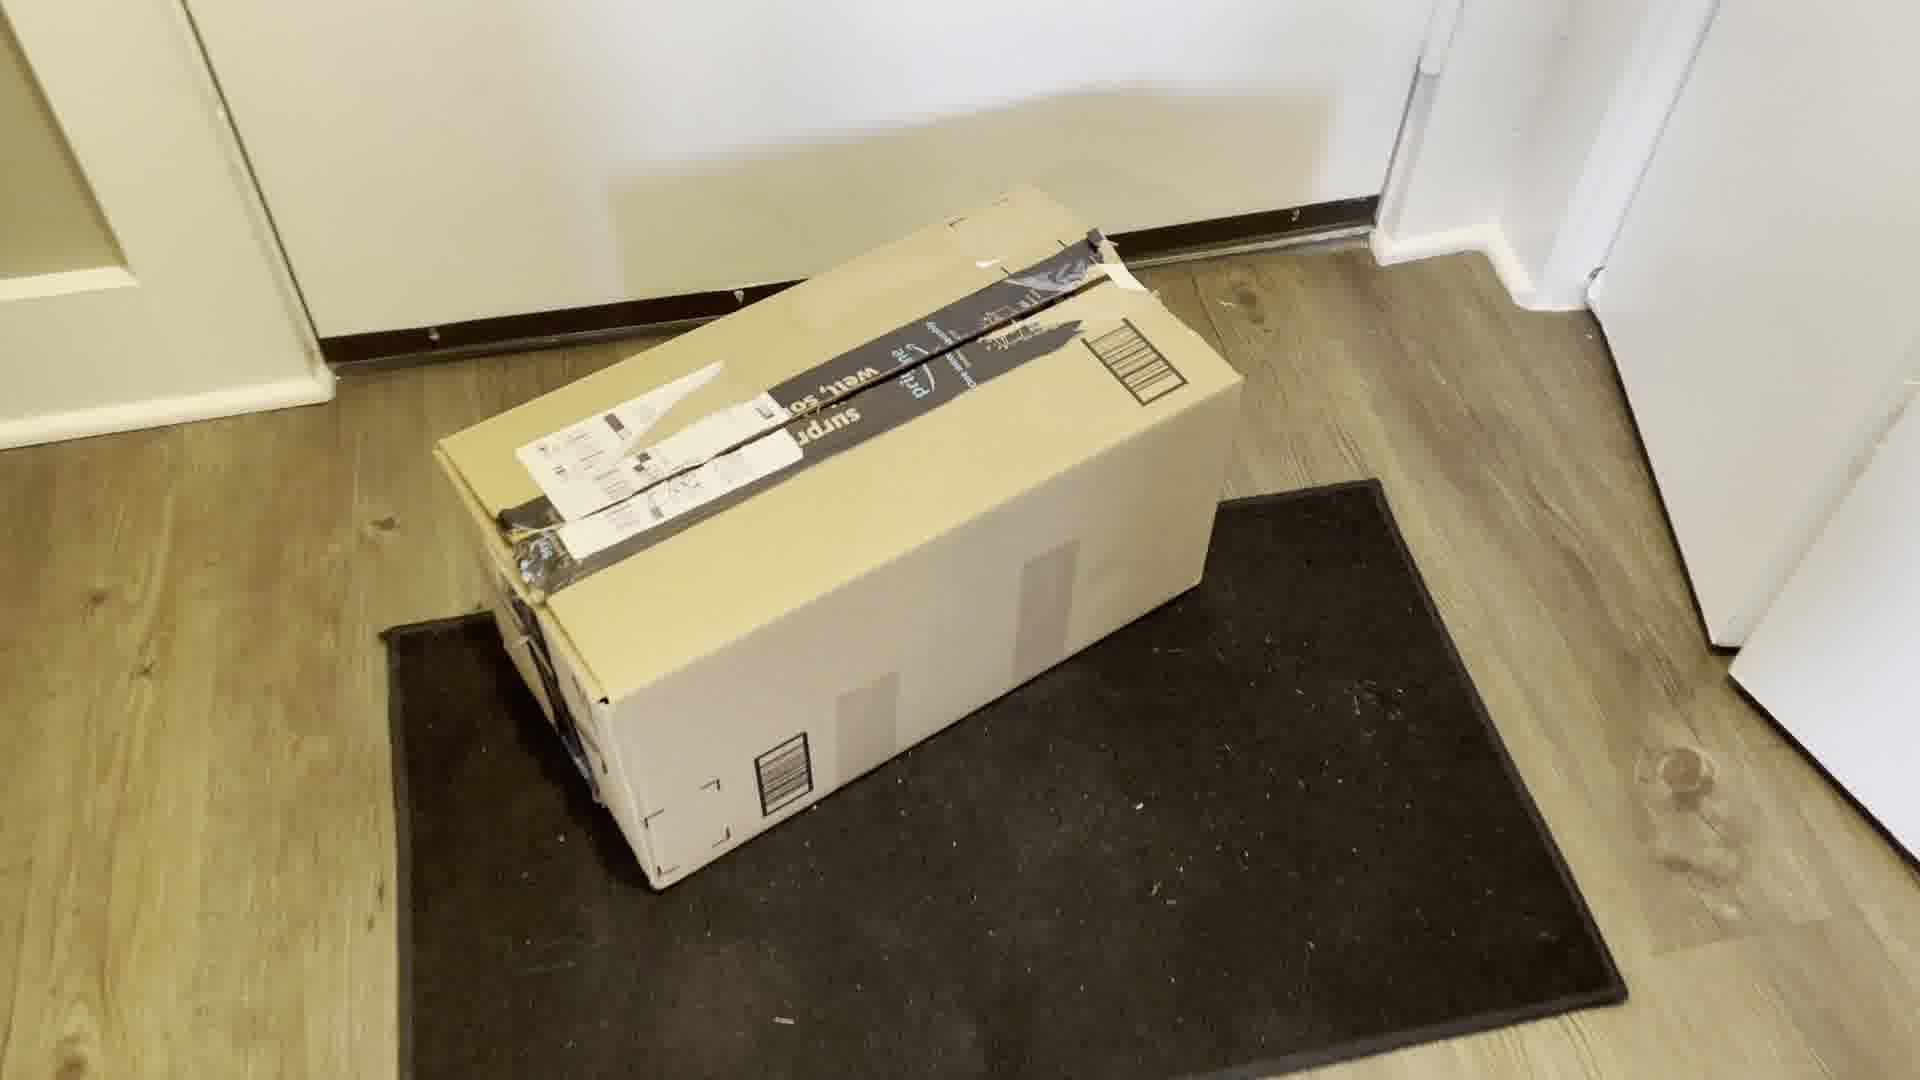box: (439, 220, 1233, 843)
